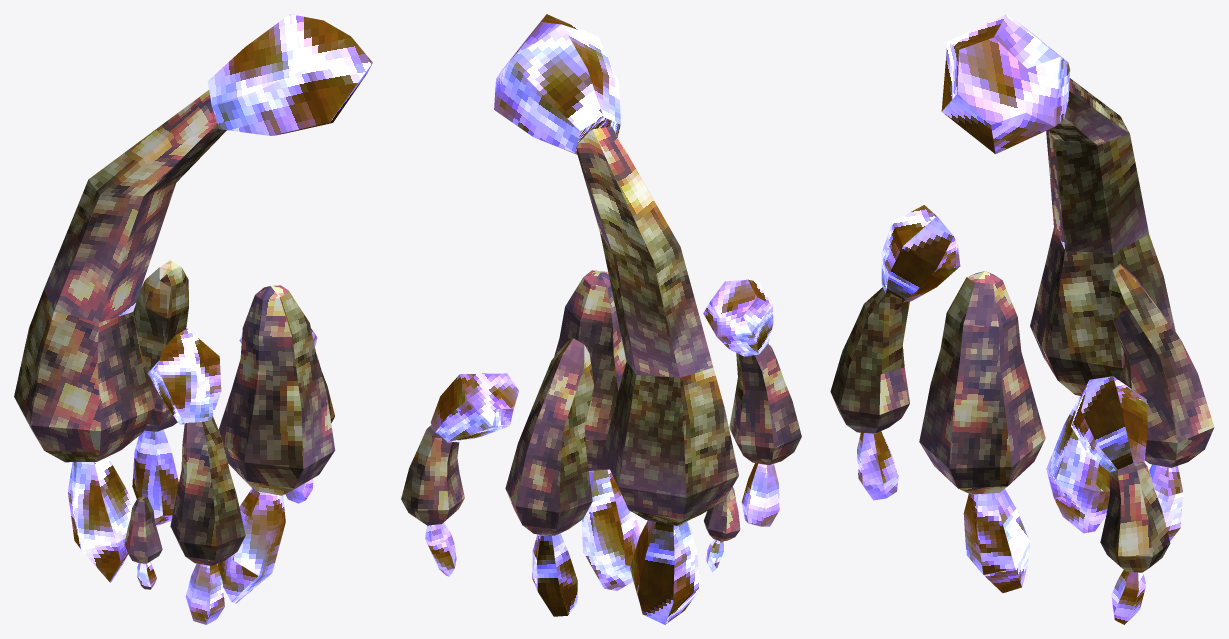
Rendered from pear_shroom_1.glb.
3 views of the same model, side by side, from view 1: azimuth 30°, elevation 25°; view 2: azimuth 150°, elevation 25°; view 3: azimuth 270°, elevation 25° (orthographic). The views are drawn at different scales.
Visible parts, largest first — view 1: pear_shroom_1; view 2: pear_shroom_1; view 3: pear_shroom_1.
Part boxes in pixels (bbox=[...]): pear_shroom_1: bbox=[14, 14, 372, 624]; pear_shroom_1: bbox=[401, 14, 801, 624]; pear_shroom_1: bbox=[830, 14, 1214, 624].
Bounding box in the file's own units: 14.24 × 24.5 × 14.02.
Materials: 1 (1 with a texture image).
